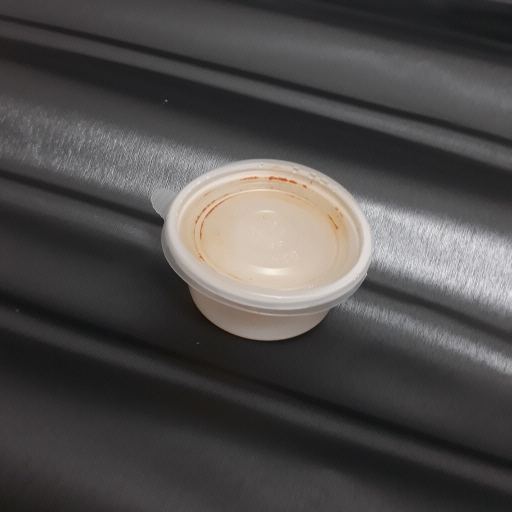Plastic_5: (143, 150, 377, 343)
